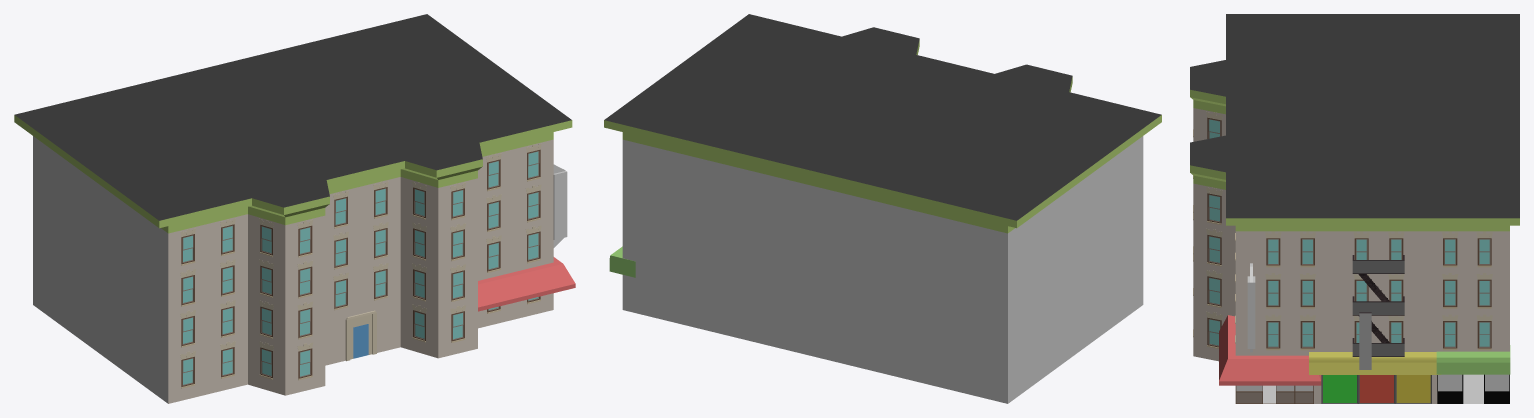
Rendered from bldg4.fbx.
The picture shows the model from 3 angles, left to right: view 1: azimuth 30°, elevation 25°; view 2: azimuth 150°, elevation 25°; view 3: azimuth 270°, elevation 25°; orthographic projection.
Visible parts, largest first — view 1: Cube; view 2: Cube; view 3: Cube.
Part boxes in pixels (bbox=[...]): Cube: bbox=[14, 14, 575, 403]; Cube: bbox=[604, 14, 1161, 403]; Cube: bbox=[1190, 14, 1519, 403].
Size of the model in its own units: 3214 by 1394 by 2162.
